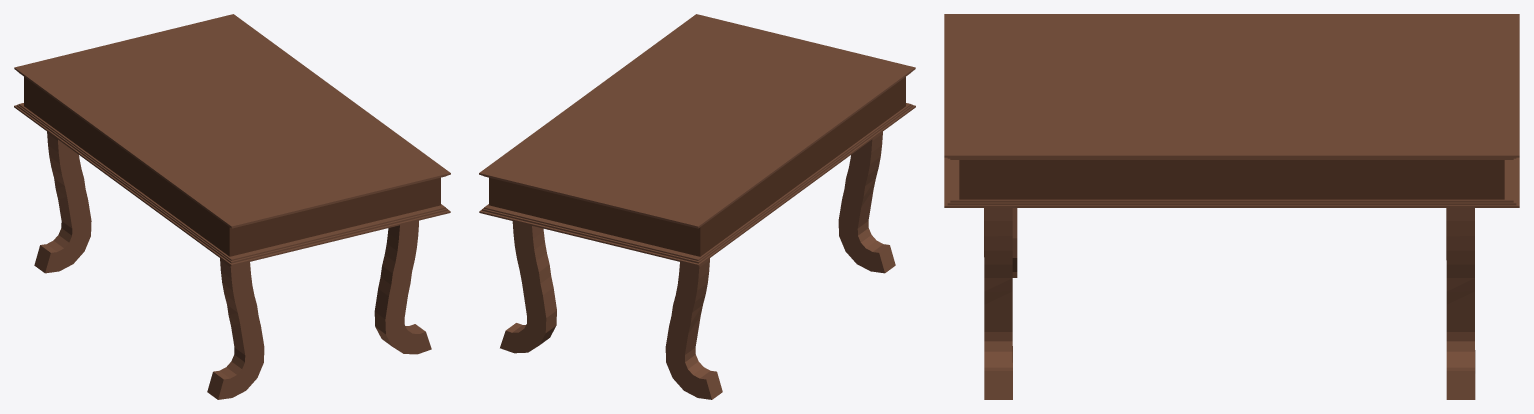
File: mesa1.fbx
The picture shows the model from 3 angles, left to right: view 1: azimuth 30°, elevation 25°; view 2: azimuth 150°, elevation 25°; view 3: azimuth 270°, elevation 25°; orthographic projection. The views are drawn at different scales.
Visible parts, largest first — view 1: polySurface23; view 2: polySurface23; view 3: polySurface23.
Part boxes in pixels (bbox=[...]): polySurface23: bbox=[14, 14, 450, 399]; polySurface23: bbox=[479, 14, 915, 399]; polySurface23: bbox=[944, 14, 1519, 399].
Size of the model in its own units: 0.1155 by 0.0945 by 0.198.
